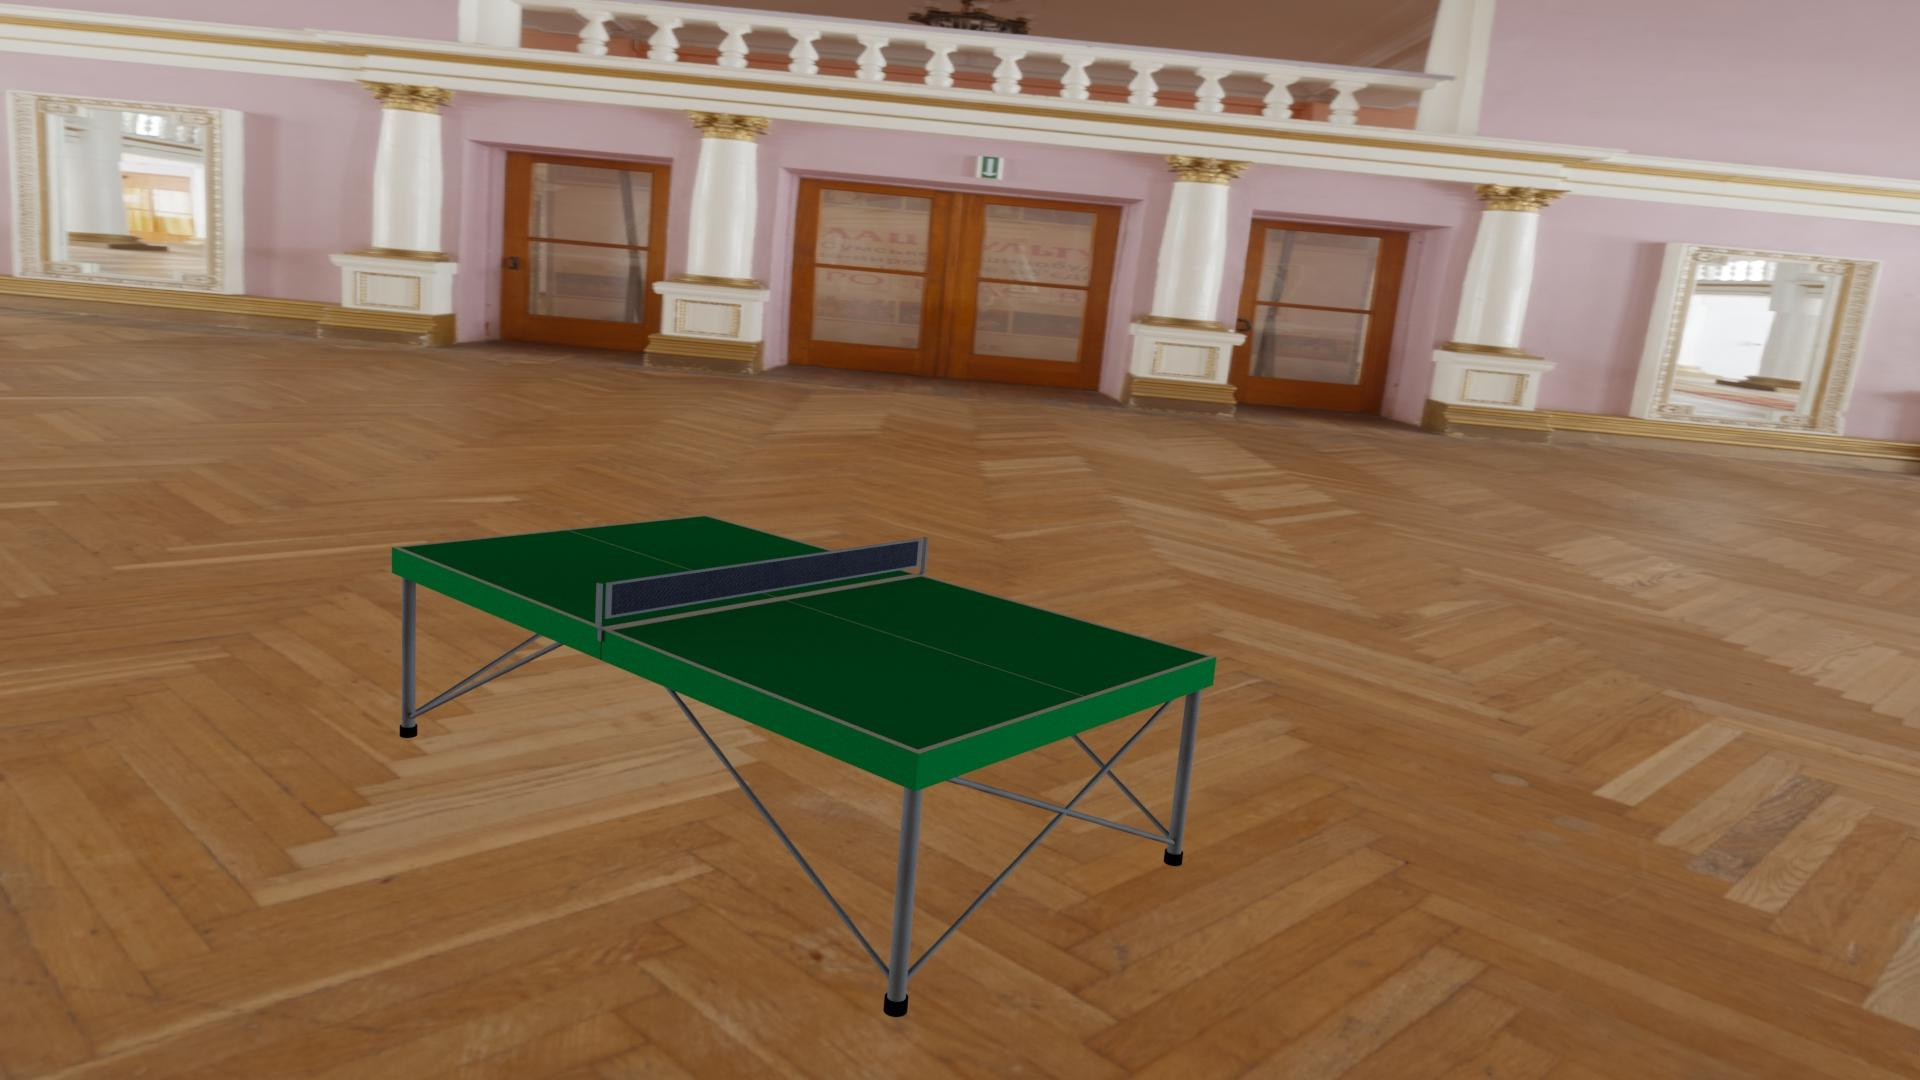table: (400, 516, 1209, 750)
